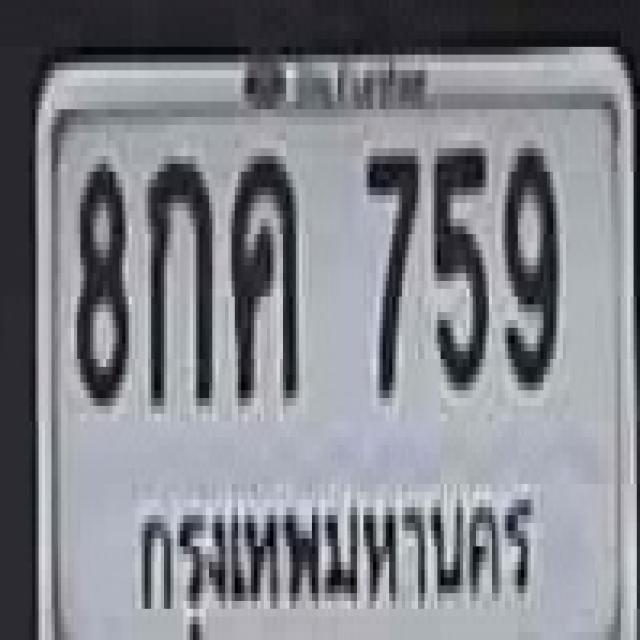5: (431, 140, 486, 382)
7: (363, 140, 415, 390)
8: (74, 156, 125, 398)
9: (502, 140, 556, 382)
A01: (145, 148, 209, 398)
A04: (228, 148, 296, 398)
BKK: (130, 467, 532, 626)
